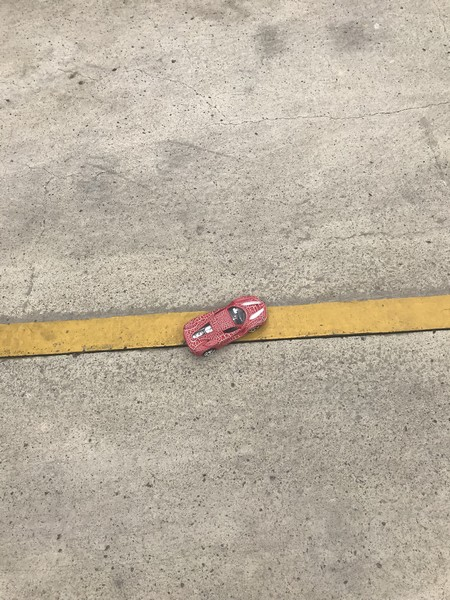RC: (181, 295, 269, 355)
